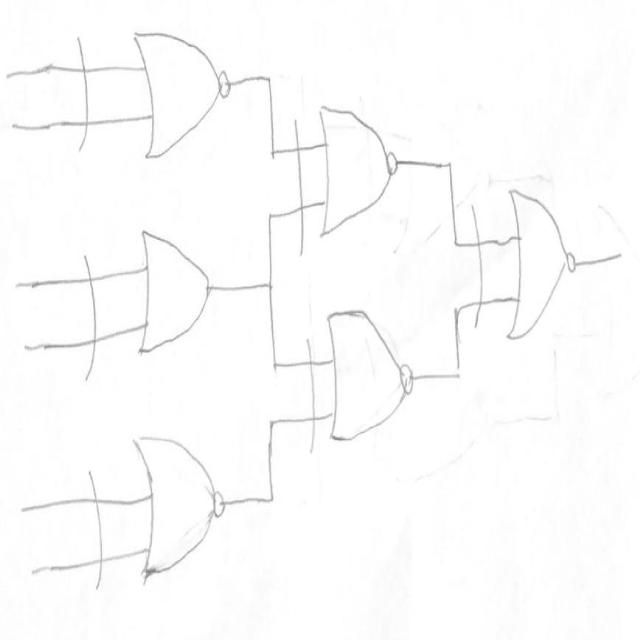XNOR: (72, 421, 245, 612), (67, 13, 241, 179), (294, 300, 431, 474), (463, 173, 588, 348), (285, 102, 409, 263)
XOR: (71, 220, 221, 390)
